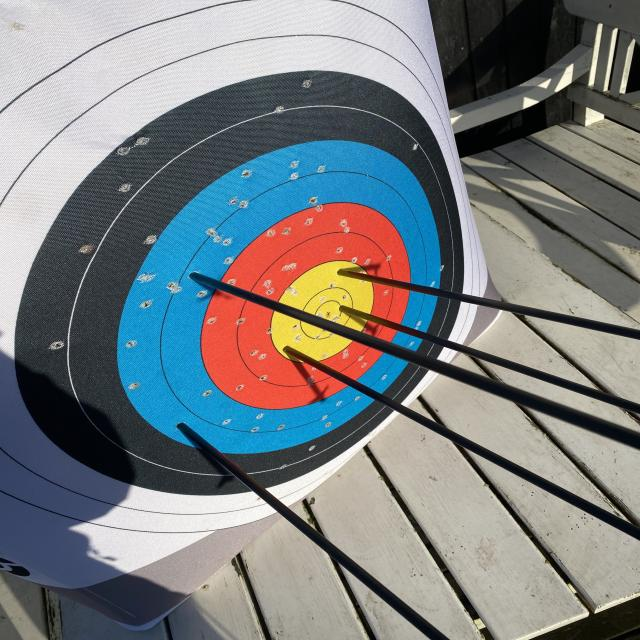Arrow_Blue: (178, 263, 212, 291), (165, 418, 197, 443)
Arrow_Yellow: (278, 338, 303, 364), (329, 295, 355, 318), (330, 262, 354, 286)
